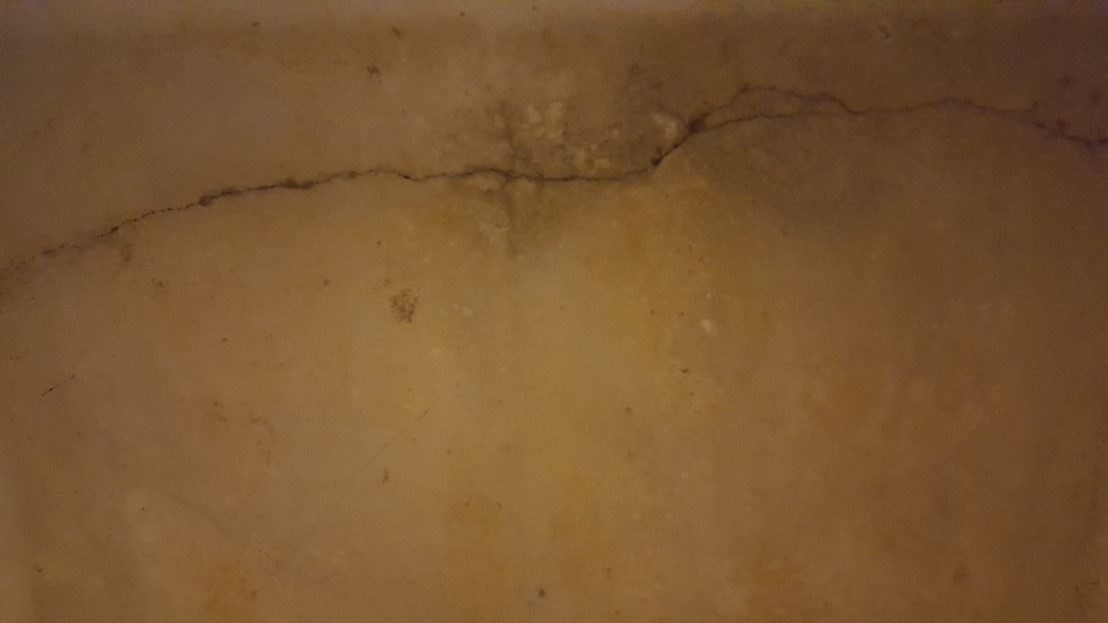Crack: (0, 69, 1108, 296)
